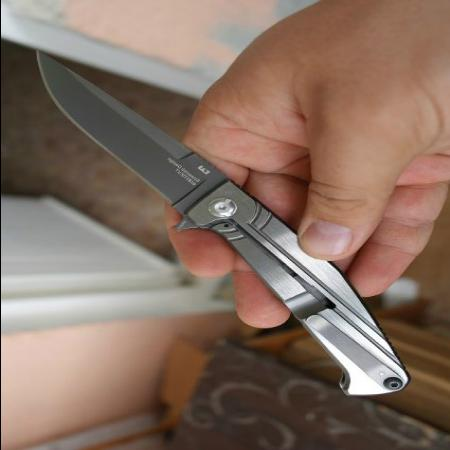long weapon: (17, 34, 303, 256)
